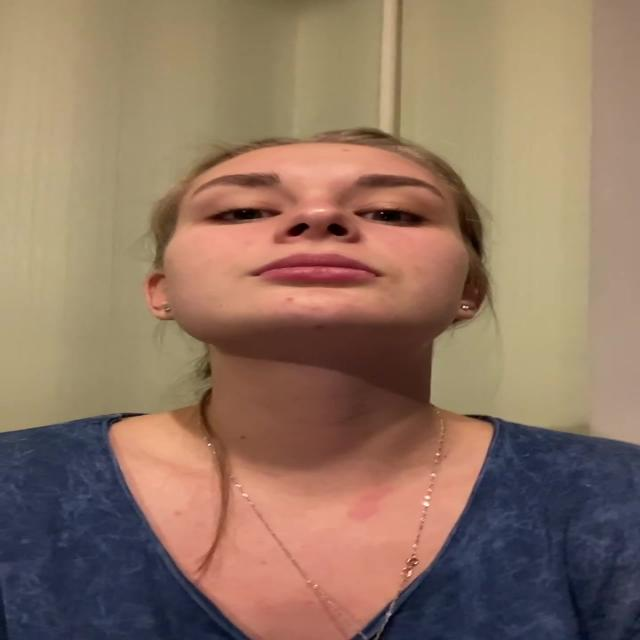earlobe: (146, 270, 180, 320), (455, 269, 485, 319)
